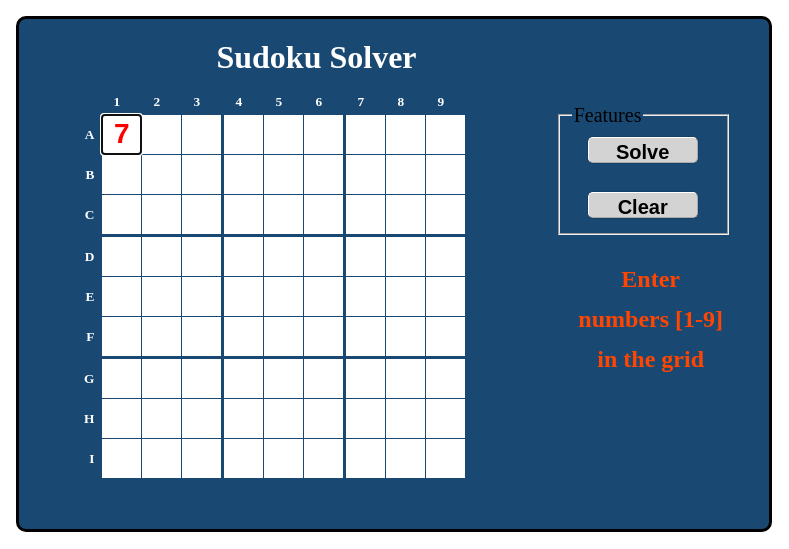
Test: Sudoku Solver app › clears the board back to the initial state
The image size is (789, 549).
Click the button "Clear" at point(643, 205), box x1=588 y1=192 x2=698 y2=218
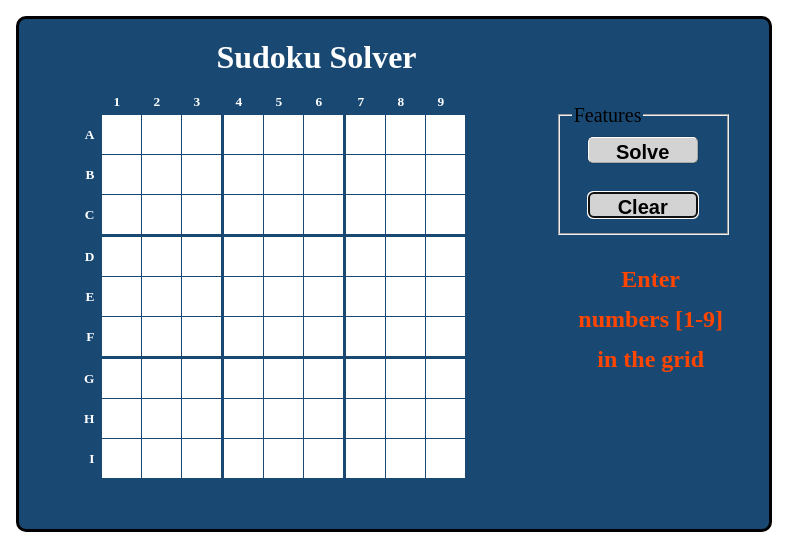
Type "7" into the 1st field with class "inputcell" at point(122, 134), box x1=102 y1=115 x2=141 y2=154
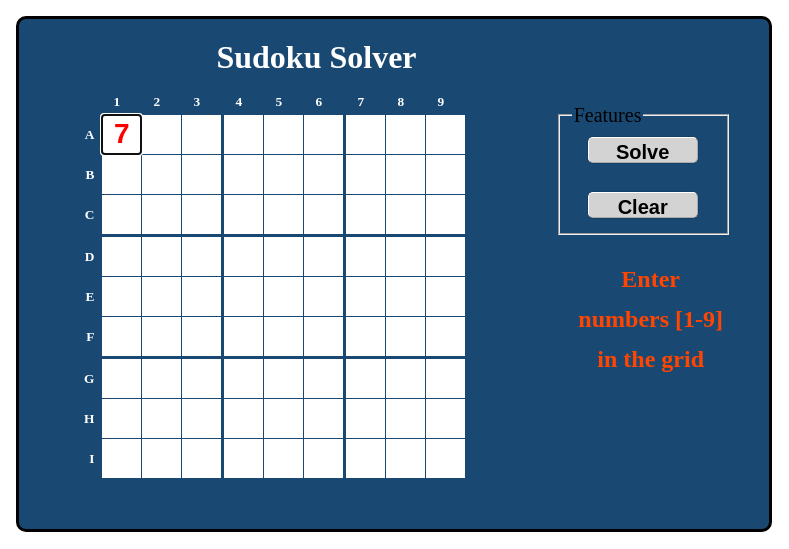
Click the button "Clear" at point(643, 205), box x1=588 y1=192 x2=698 y2=218
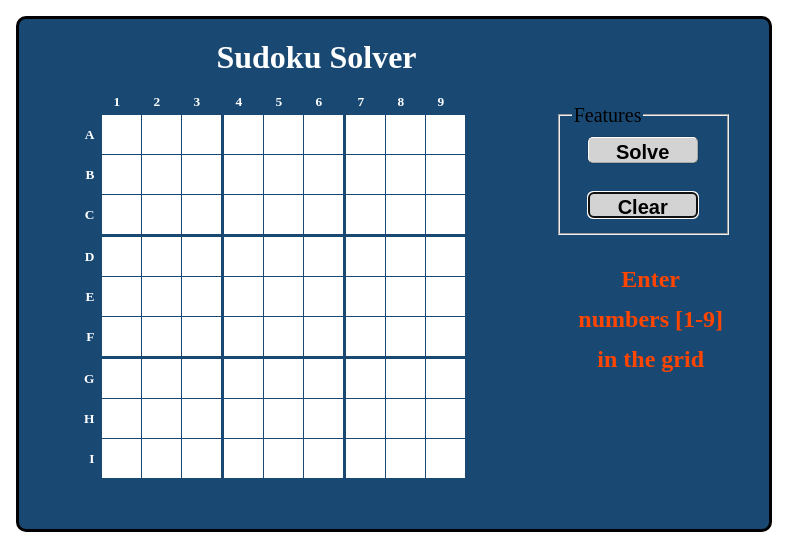
Expected: the button "Enter numbers [1-9] in the grid" is shown, x1=576 y1=259 x2=726 y2=299
Now the 1st field with class "inputcell" is empty, box x1=102 y1=115 x2=141 y2=154
